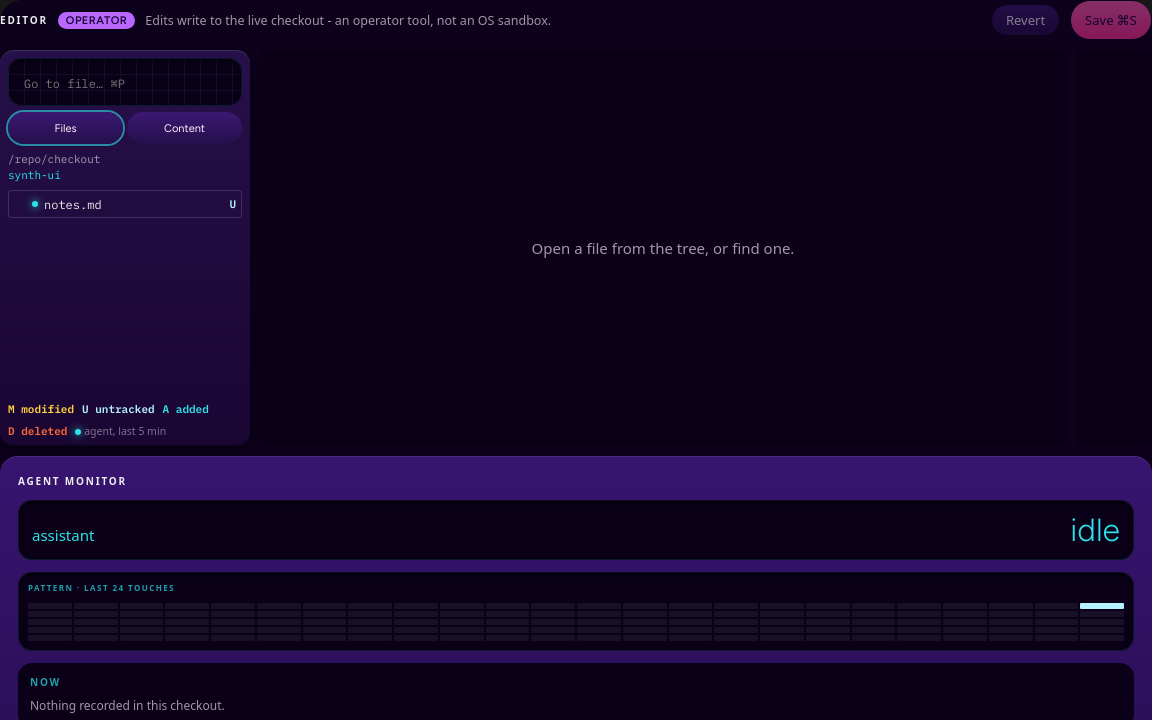
Test: the preview names the exact checkout, bytes and hash before anything is written
The image size is (1152, 720).
Click the text "notes.md": (73, 204) [44, 196, 102, 212]
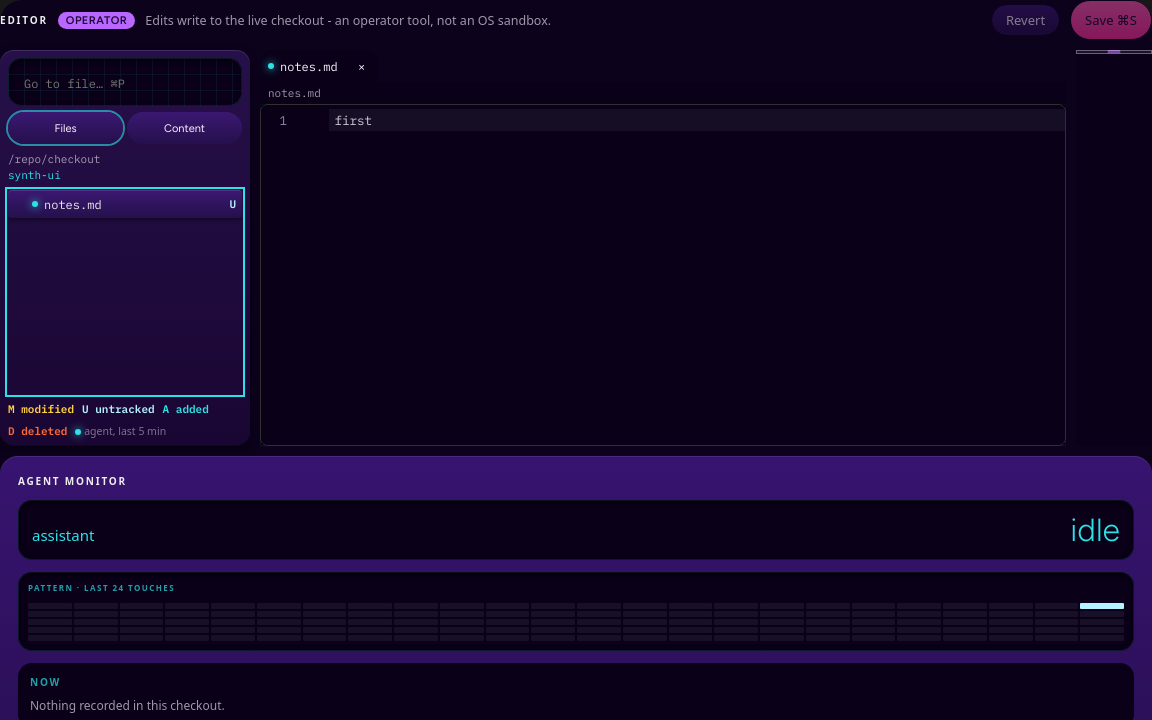
Expected: the field with class "cm-content" is shown
Click the field with class "cm-content": (697, 120) [328, 109, 1065, 131]
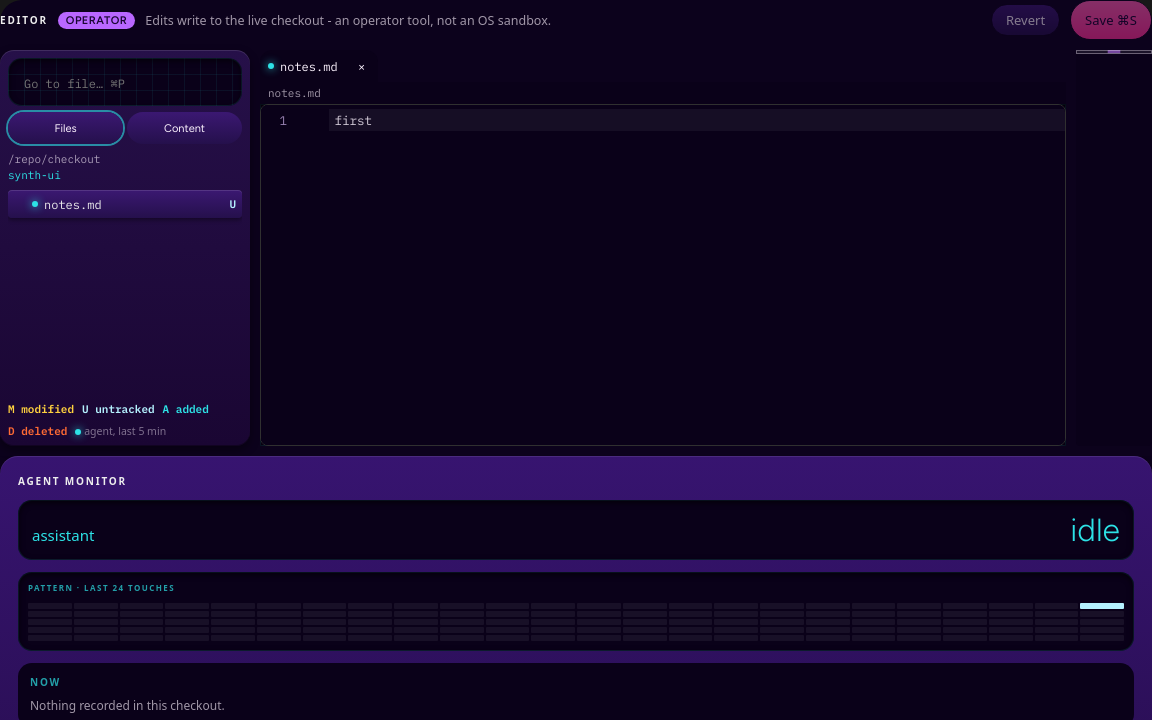
Press End
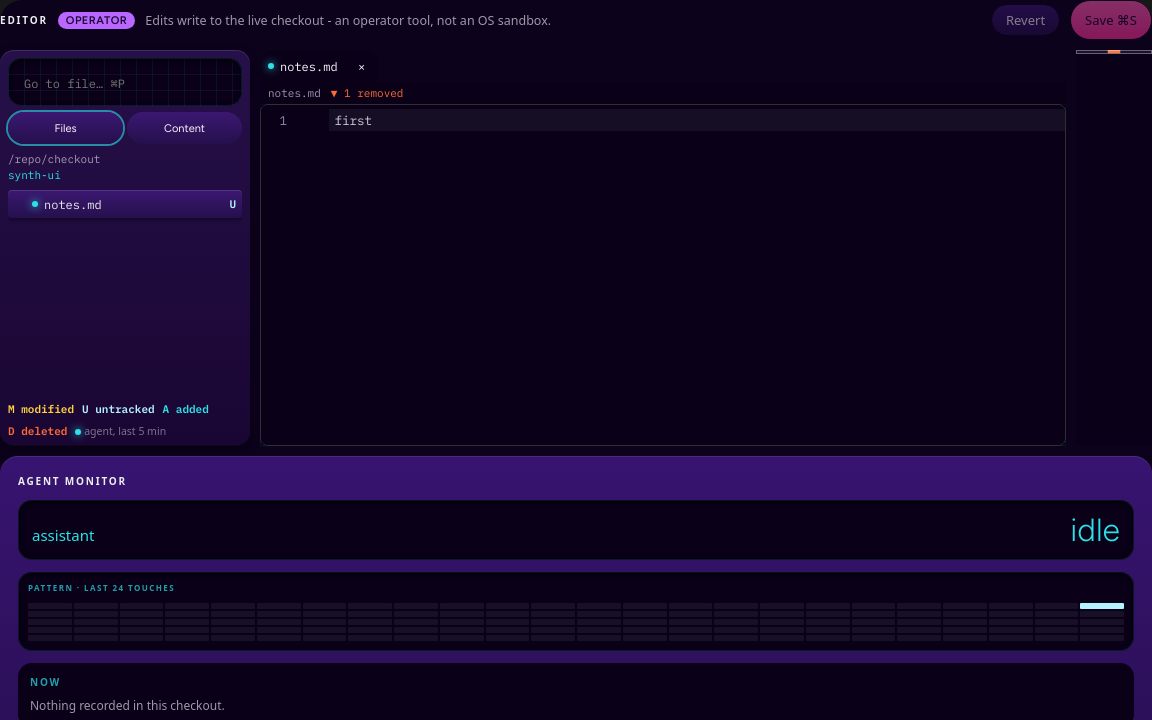
Type keys "!"
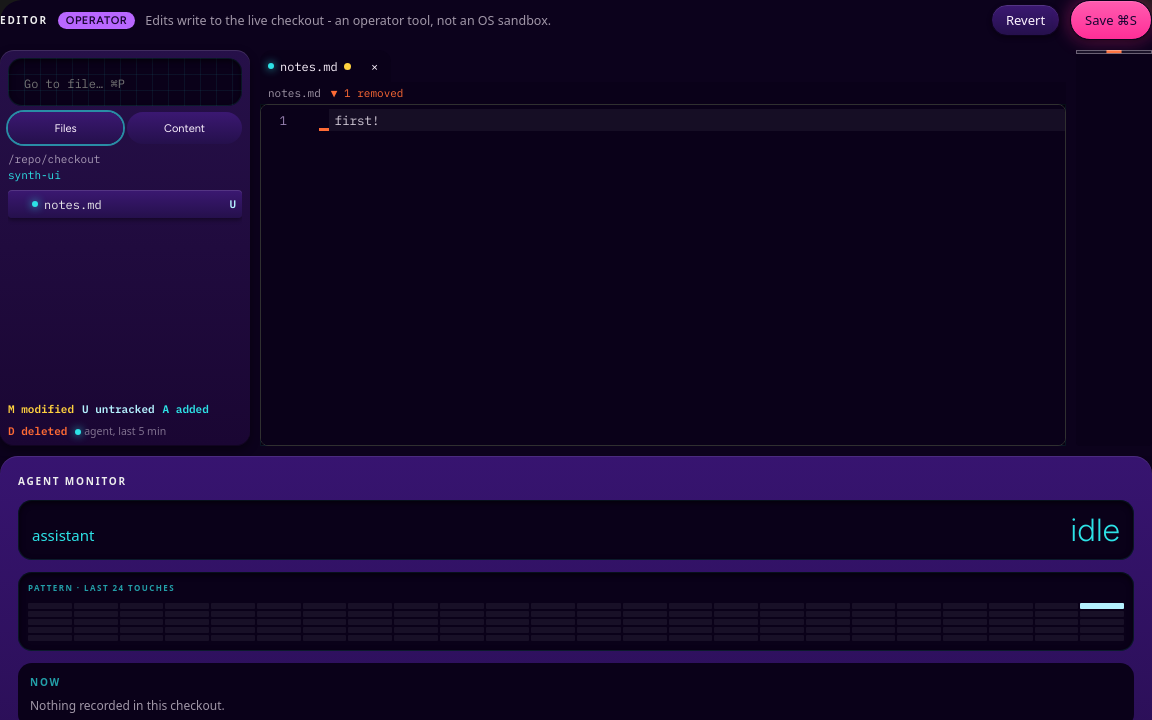
Click the button "Save ⌘S": (1111, 20) [1070, 0, 1151, 40]
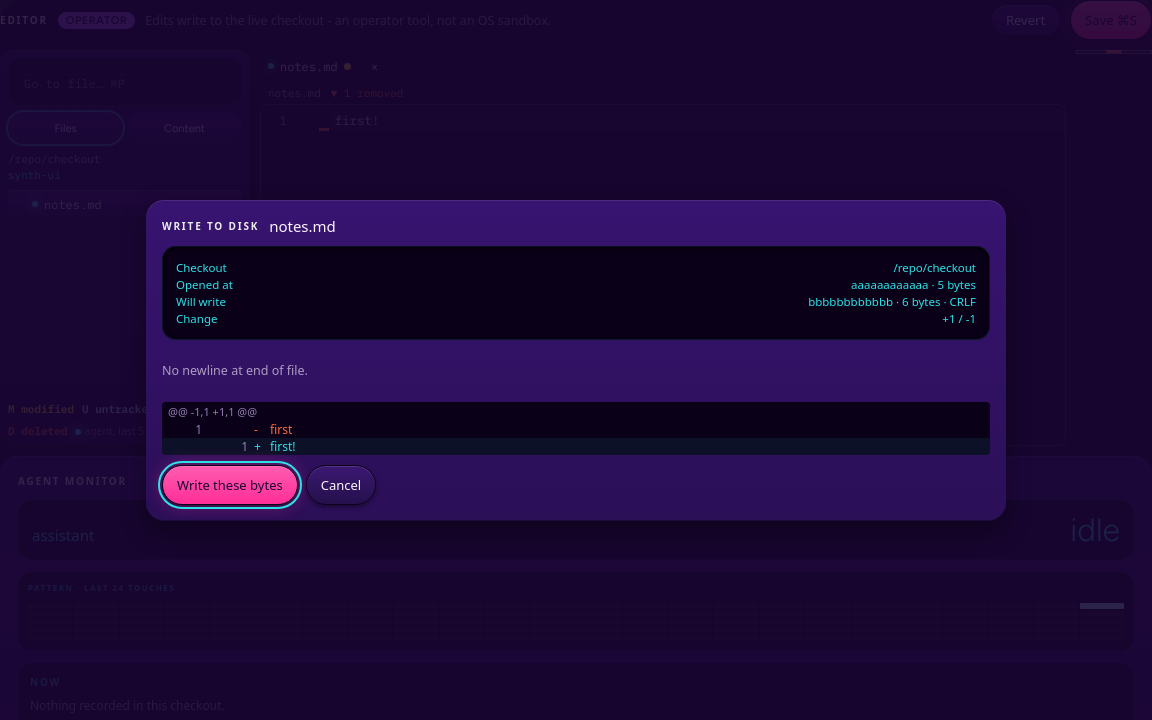
Expected: the dialog named "Save notes.md" shows "/repo/checkout", [893, 260, 976, 274]
Expected: the dialog named "Save notes.md" shows "bbbbbbbbbbbb", [808, 294, 893, 308]
Expected: the dialog named "Save notes.md" shows "No newline at end of file.", [162, 362, 308, 379]
Click the button "Write these bytes": (230, 484) [162, 464, 298, 504]
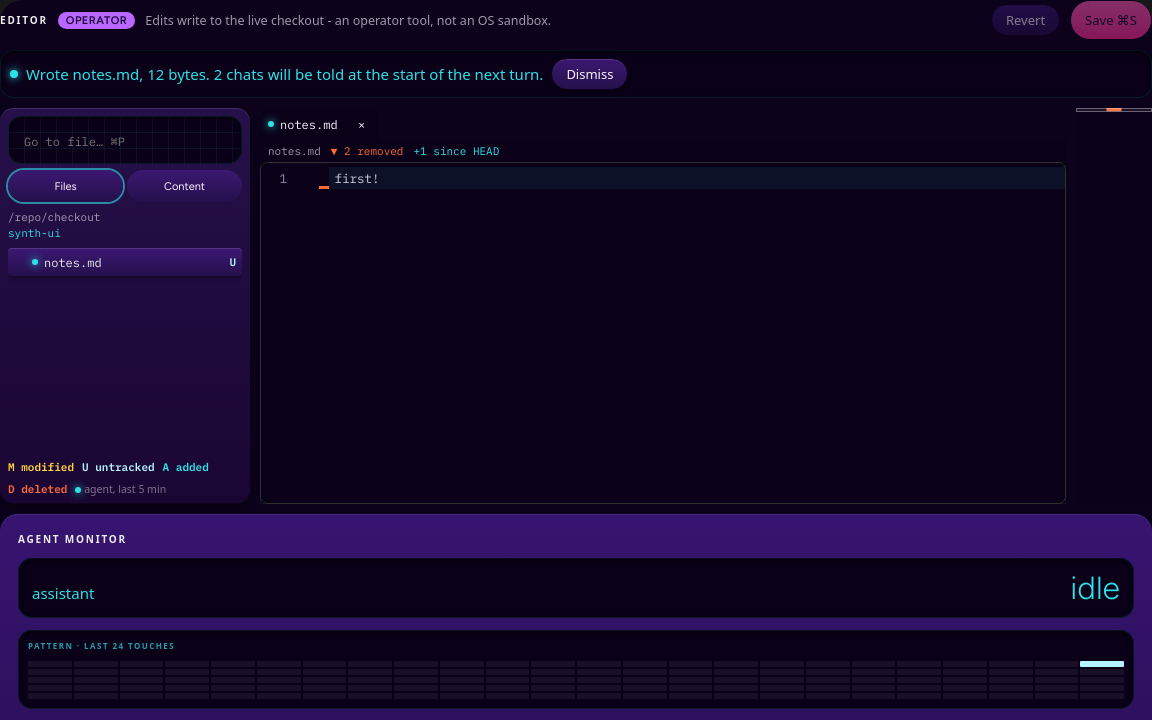
Expected: the text "2 chats will be told at the start of the next turn" is shown, [214, 64, 543, 84]
